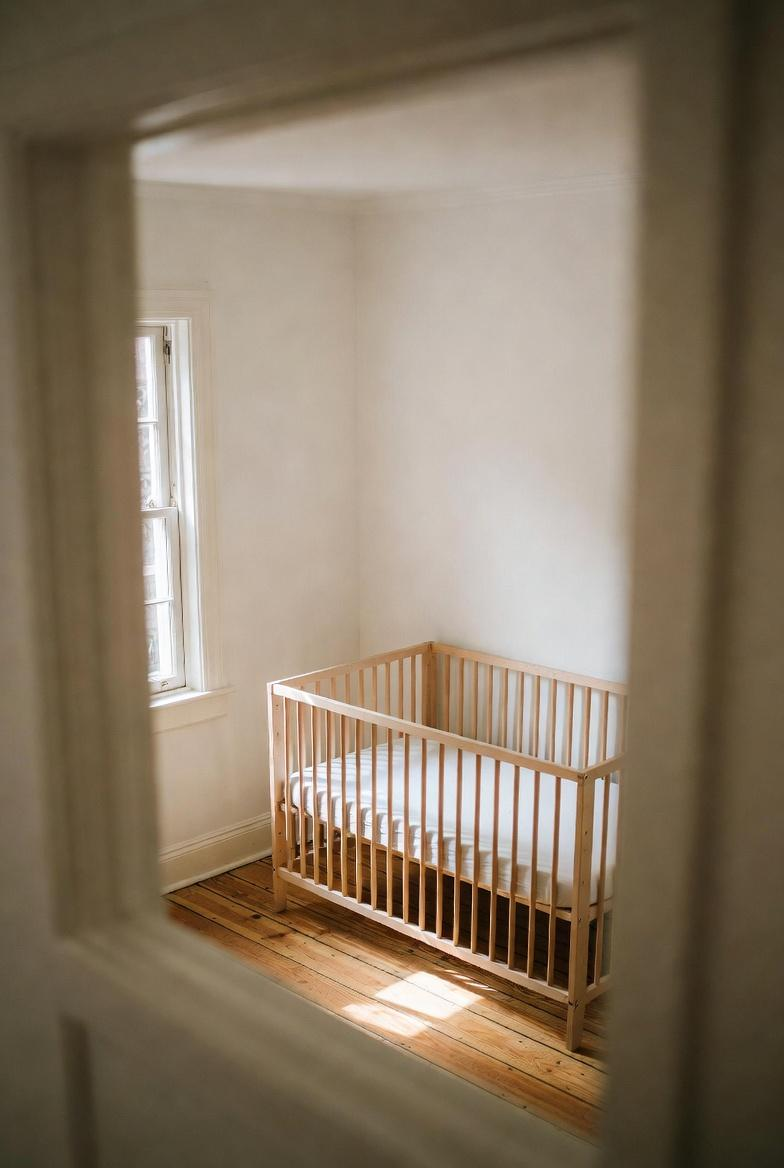crib: (268, 642, 626, 1050)
